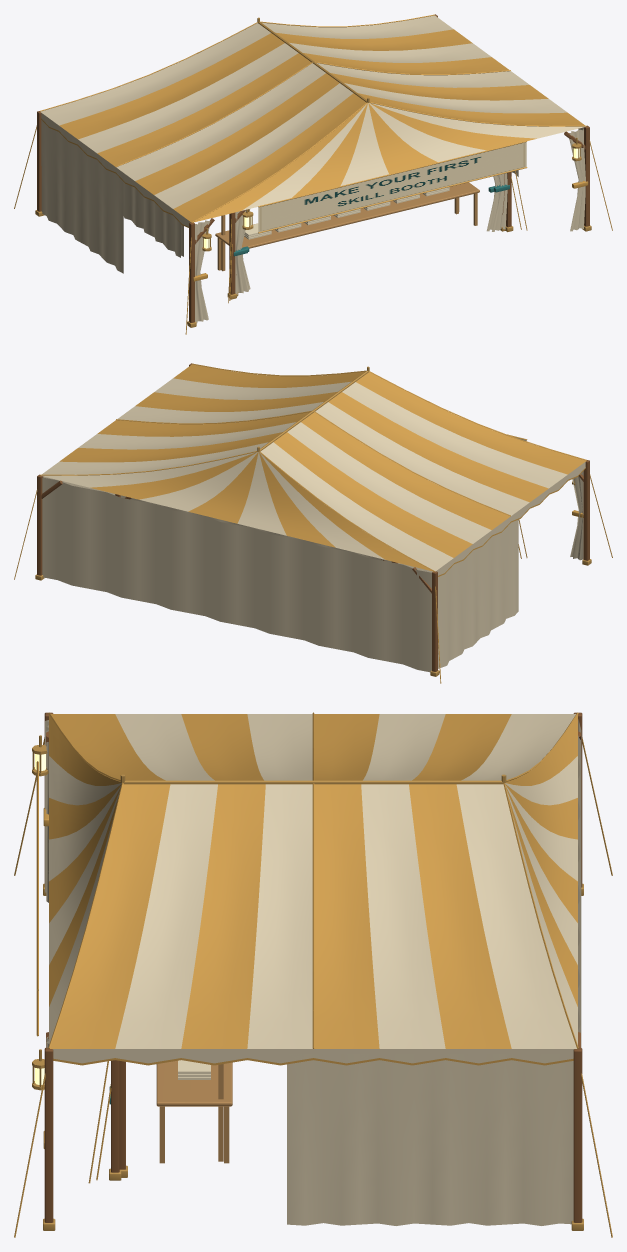
The model's file is tent_kit.glb.
The picture shows the model from 3 angles, top to bottom: view 1: azimuth 30°, elevation 25°; view 2: azimuth 150°, elevation 25°; view 3: azimuth 270°, elevation 25°; orthographic projection. The views are drawn at different scales.
Parts seen in each view (by area): view 1: atelier_side_curtain.002, atelier_banner.001, atelier_roof.023, atelier_roof.021, atelier_roof.018, atelier_roof.022, atelier_roof.017, atelier_roof.019, atelier_roof.016, atelier_roof.020, news_table_top, atelier_roof.026 (+27 smaller); view 2: atelier_back_curtain.001, atelier_side_curtain.002, atelier_roof.016, atelier_roof.018, atelier_roof.021, atelier_roof.017, atelier_roof.022, atelier_roof.020, atelier_roof.023, atelier_roof.019, atelier_roof.029, atelier_roof.030 (+20 smaller); view 3: atelier_side_curtain.003, atelier_roof.026, atelier_roof.029, atelier_roof.025, atelier_roof.030, atelier_roof.024, atelier_roof.031, atelier_roof.027, atelier_roof.028, atelier_scalloped_side.003, atelier_roof.017, atelier_roof.022 (+30 smaller).
Boxes of the visible parts, x1,y1,x2,y2 form: atelier_side_curtain.002: (41,118,123,273); atelier_banner.001: (258,142,526,232); atelier_roof.023: (40,23,270,125); atelier_roof.021: (78,43,298,153); atelier_roof.018: (135,73,339,194); atelier_roof.022: (59,33,284,139); atelier_roof.017: (154,83,353,208); atelier_roof.019: (116,63,325,180); atelier_roof.016: (173,93,366,222); atelier_roof.020: (97,53,311,166); news_table_top: (215,182,479,248); atelier_roof.026: (330,73,548,100); atelier_back_curtain.001: (42,477,431,672); atelier_side_curtain.002: (438,513,518,668); atelier_roof.016: (356,372,586,474); atelier_roof.018: (328,392,548,502); atelier_roof.021: (287,422,491,543); atelier_roof.017: (342,382,567,488); atelier_roof.022: (273,432,472,557); atelier_roof.020: (301,412,510,529); atelier_roof.023: (260,442,453,571); atelier_roof.019: (315,402,529,515); atelier_roof.029: (78,422,296,449); atelier_roof.030: (59,432,282,462); atelier_side_curtain.003: (287,1054,573,1225); atelier_roof.026: (181,784,265,1048); atelier_roof.029: (361,784,445,1048); atelier_roof.025: (115,784,217,1048); atelier_roof.030: (409,784,511,1048); atelier_roof.024: (50,784,170,1048); atelier_roof.031: (456,784,576,1048); atelier_roof.027: (247,784,312,1048); atelier_roof.028: (314,784,379,1048); atelier_scalloped_side.003: (52,1049,574,1063); atelier_roof.017: (115,714,214,780); atelier_roof.022: (412,714,511,780).
Bounding box in the file's own units: 12.98 × 4.77 × 9.06.
Materials: 14 (5 with a texture image).
